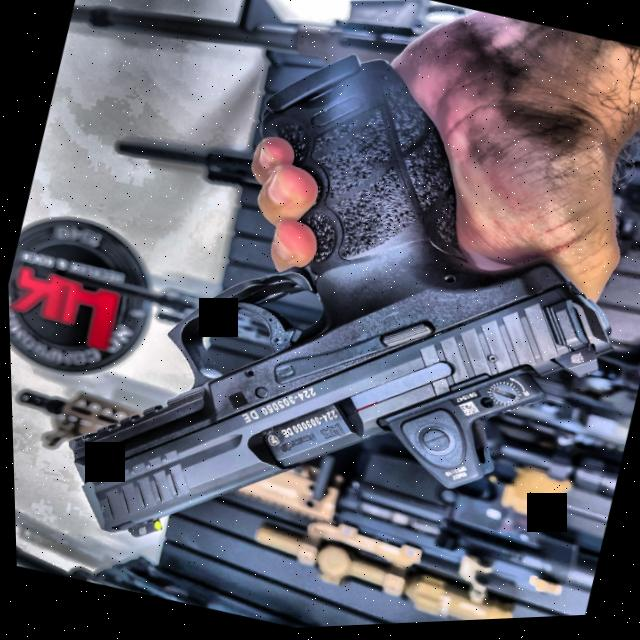HKVP9: (25, 9, 640, 639)
